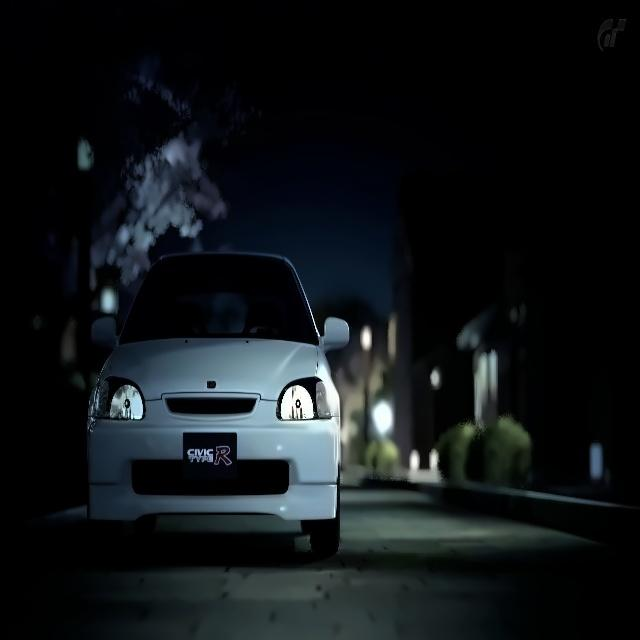Car hood: (98, 335, 337, 400)
Front bumper: (81, 420, 348, 527)
Headlight - -L-: (270, 368, 344, 430)
Headlight - -R-: (82, 368, 146, 425)
Side mirror - -L-: (315, 308, 356, 357)
Side mirror - -R-: (83, 309, 132, 353)
